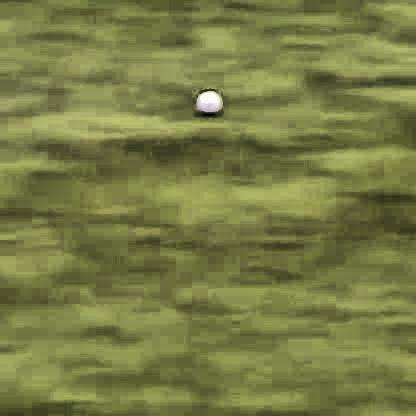golfball: (193, 86, 221, 111)
